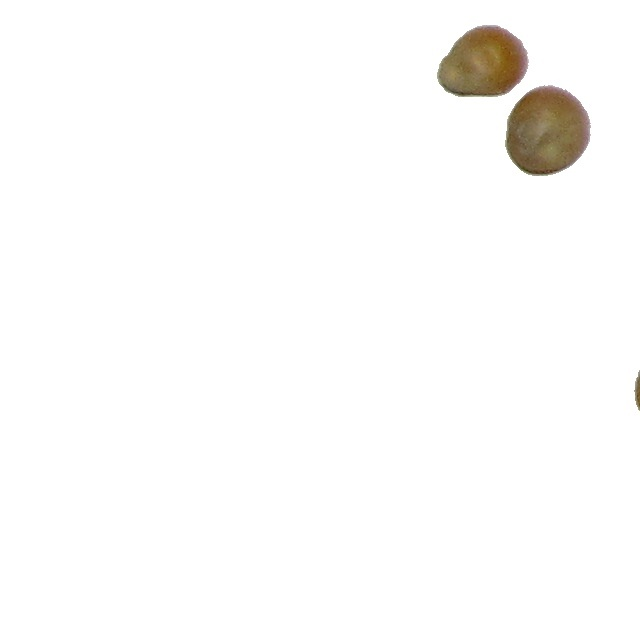mais: (504, 84, 592, 177), (436, 24, 530, 98), (633, 342, 640, 435)
